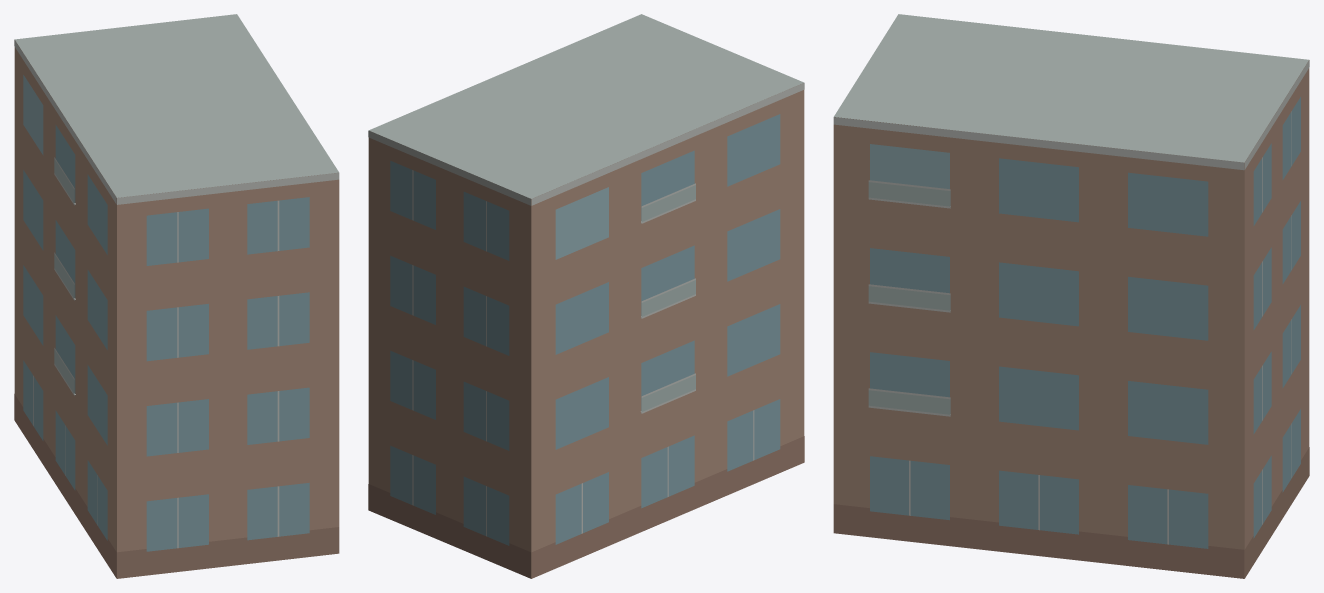
Rendered from survey-upis-32831170.glb.
The picture shows the model from 3 angles, left to right: view 1: azimuth 30°, elevation 25°; view 2: azimuth 150°, elevation 25°; view 3: azimuth 270°, elevation 25°; orthographic projection. The views are drawn at different scales.
Parts seen in each view (by area): view 1: survey-upis-32831170.tmp; view 2: survey-upis-32831170.tmp; view 3: survey-upis-32831170.tmp.
Part boxes in pixels (box(x1,y1,x2,y2)): survey-upis-32831170.tmp: box(14, 14, 339, 578); survey-upis-32831170.tmp: box(368, 14, 804, 578); survey-upis-32831170.tmp: box(833, 14, 1309, 578).
Size of the model in its own units: 10.11 by 13.2 by 13.68.
